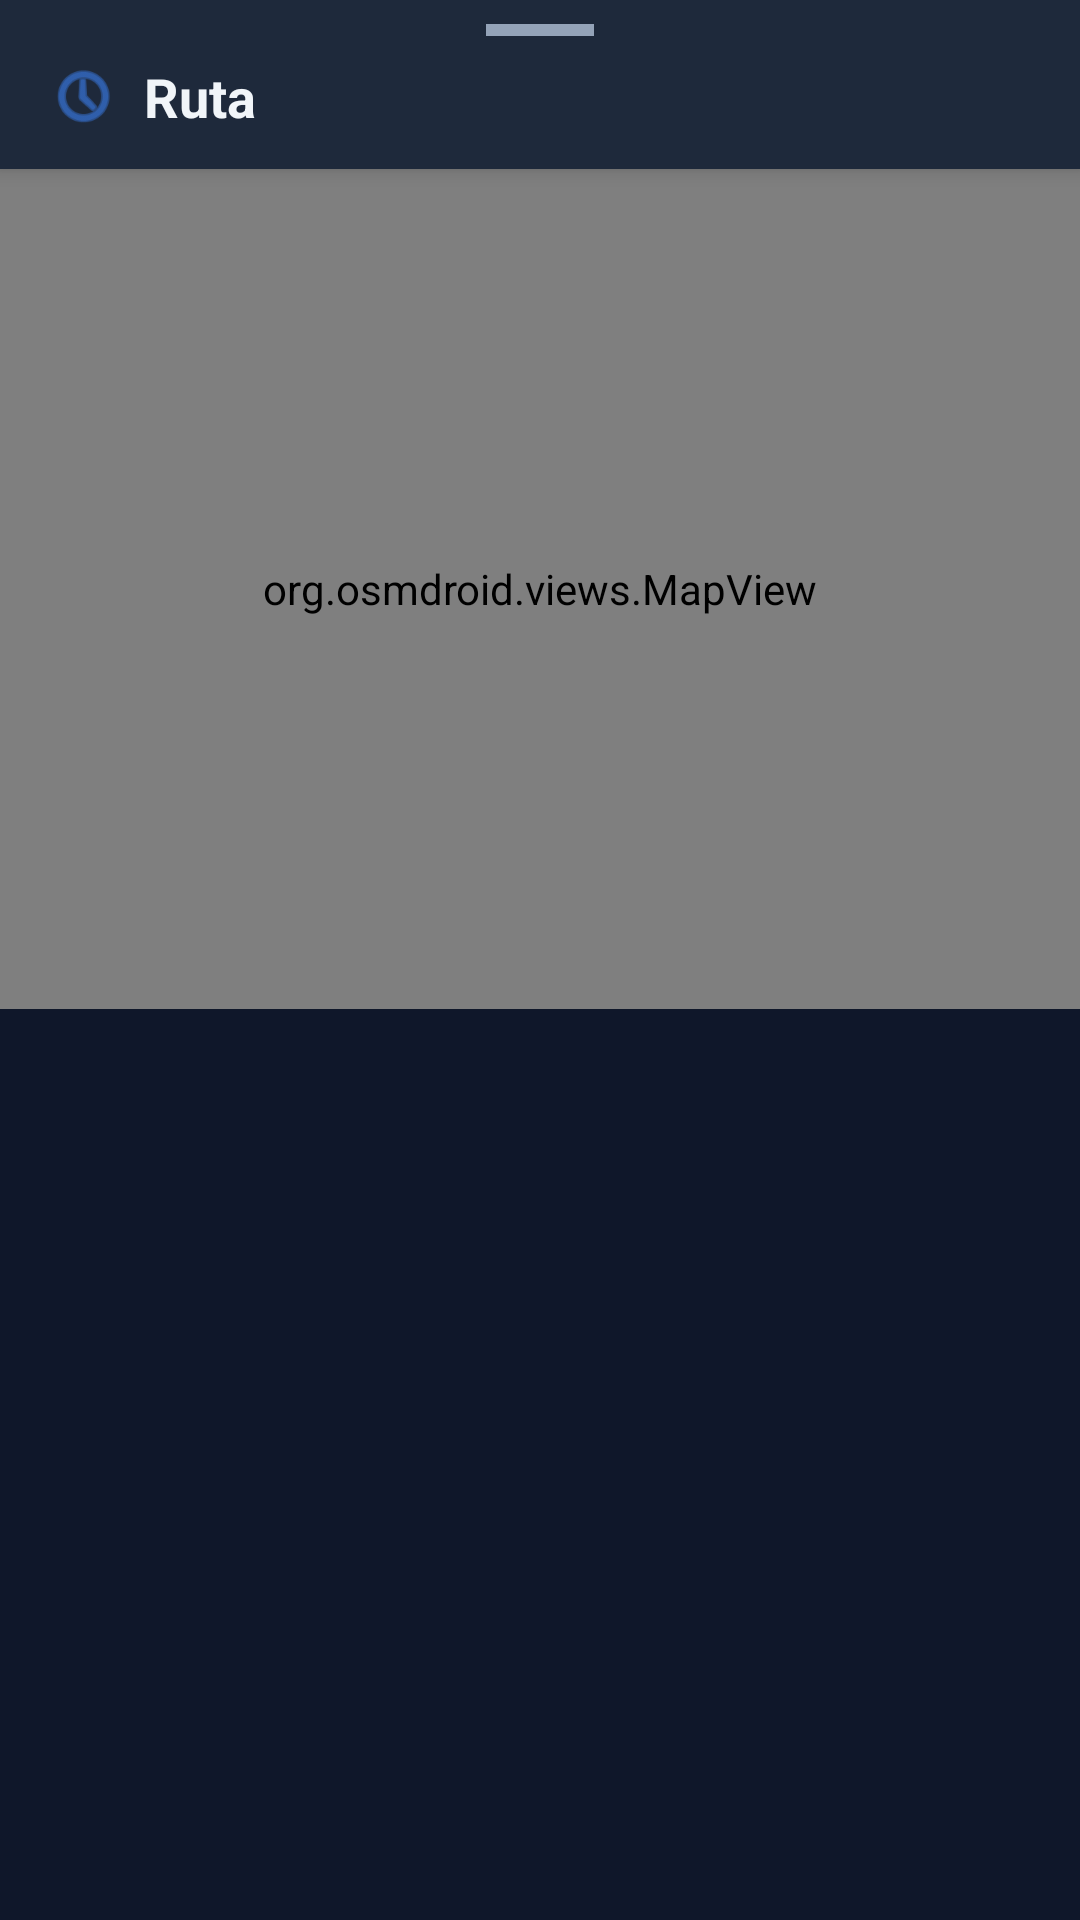

Where icons sit on this 1080 × 1920 app screen, as region(x1, y1, x2, y2):
recent history: region(58, 70, 110, 122)
